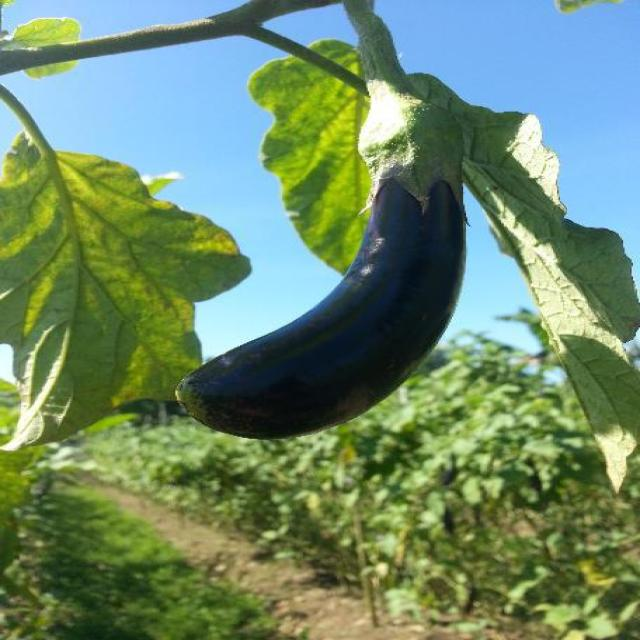eggplant: (202, 87, 473, 450)
